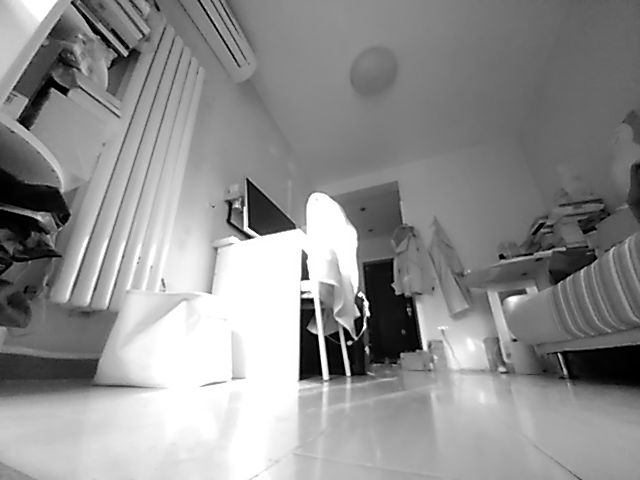wire: (444, 335, 489, 373)
